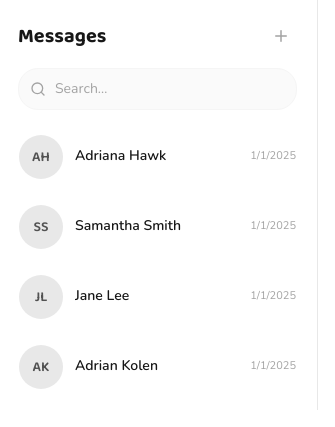
Test: ConversationList › displays filtered results from backend search
In the field with placeholder "Search…": (158, 89) [18,68,297,110], type "Adrian"
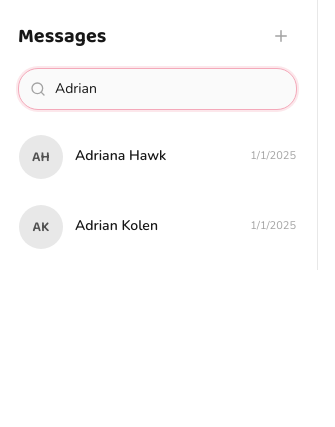
Expected: the text "Adriana Hawk" is shown, [75,146,166,166]
Expected: the button "Samantha Smith" is gone
Expected: the button "Jane Lee" is gone
